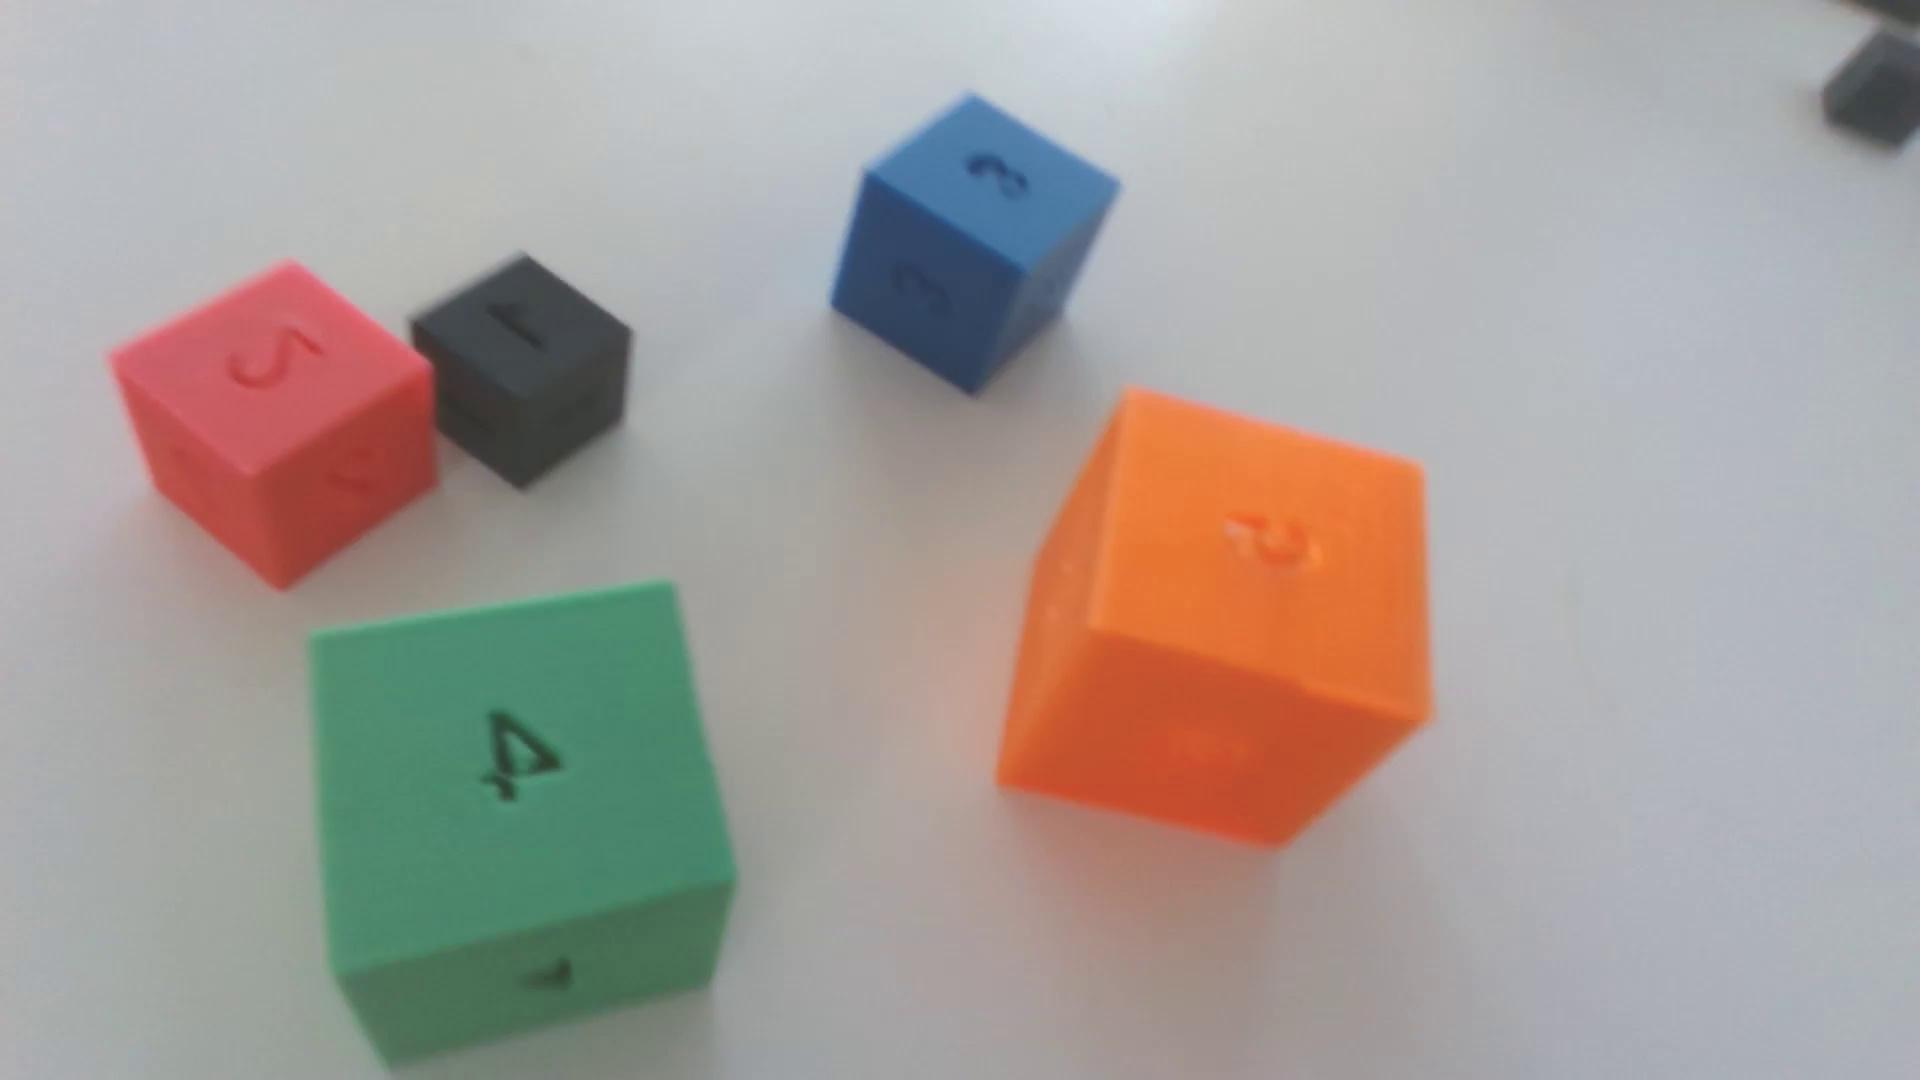black: (409, 257, 634, 491)
blue: (832, 98, 1120, 396)
green: (309, 583, 736, 1065)
orange: (996, 392, 1433, 848)
red: (112, 265, 439, 591)
